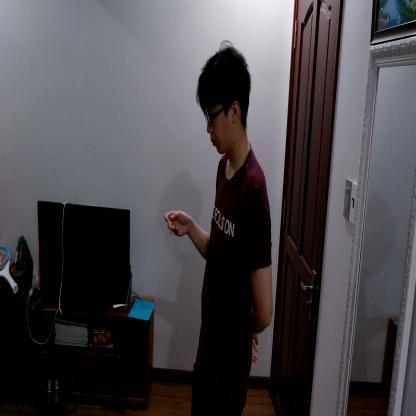cigarette: (170, 228, 173, 253)
person: (163, 43, 276, 416)
